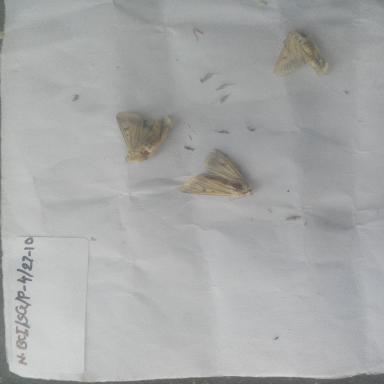abw: (172, 142, 260, 204), (101, 107, 182, 167), (264, 25, 342, 83)
